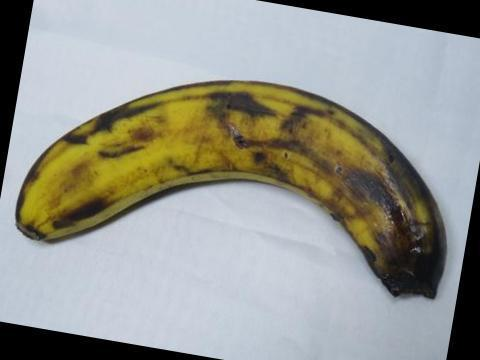overripe: (0, 62, 456, 310)
rotten: (319, 156, 451, 315)
